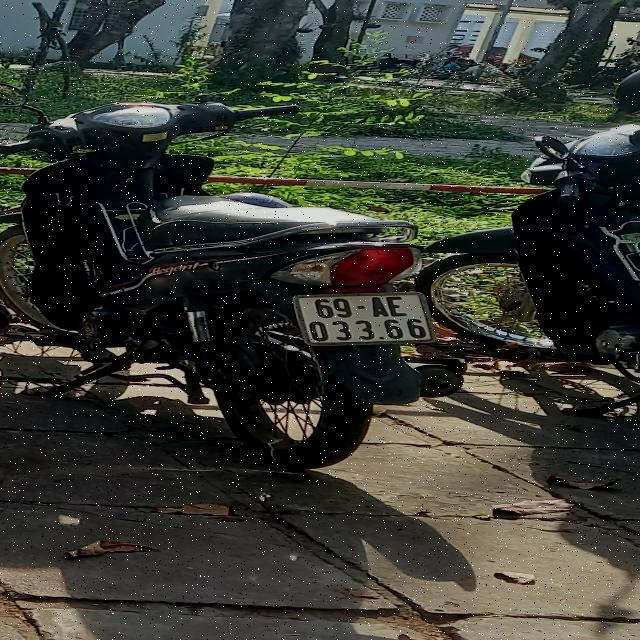0: (308, 322, 328, 342)
3: (332, 320, 352, 340), (356, 320, 374, 341)
6: (384, 319, 404, 339), (407, 319, 427, 339), (315, 299, 334, 319)
9: (334, 298, 353, 318)
A: (369, 297, 388, 317)
E: (387, 297, 408, 317)
